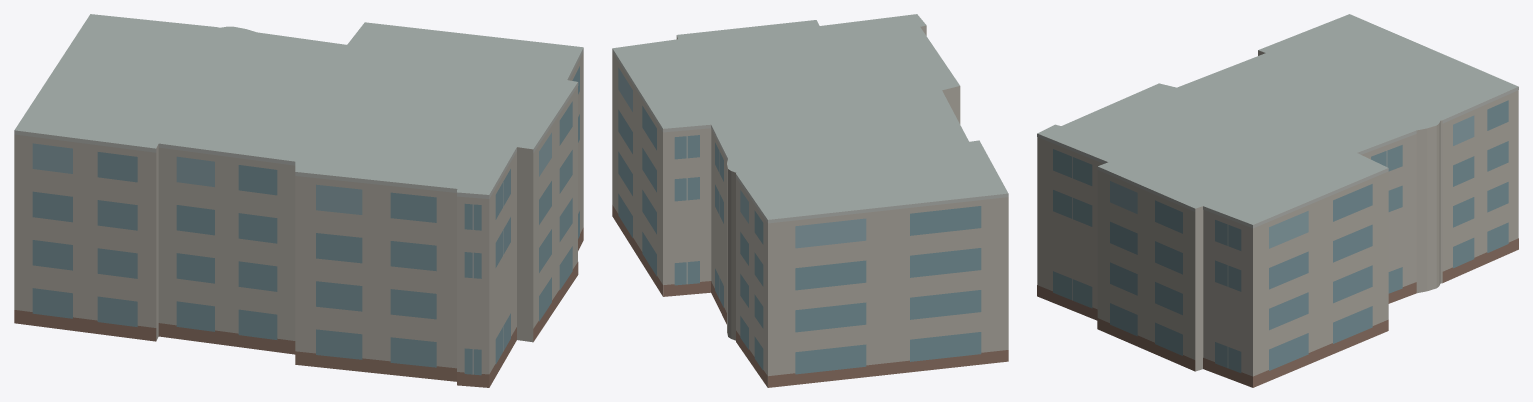
Rendered from survey-upis-32712202.glb.
3 views of the same model, side by side, from view 1: azimuth 30°, elevation 25°; view 2: azimuth 150°, elevation 25°; view 3: azimuth 270°, elevation 25° (orthographic). The views are drawn at different scales.
Parts seen in each view (by area): view 1: survey-upis-32712202.tmp; view 2: survey-upis-32712202.tmp; view 3: survey-upis-32712202.tmp.
Part boxes in pixels (bbox=[...]): survey-upis-32712202.tmp: bbox=[14, 14, 583, 387]; survey-upis-32712202.tmp: bbox=[612, 14, 1008, 387]; survey-upis-32712202.tmp: bbox=[1037, 14, 1518, 387].
Size of the model in its own units: 31.95 by 11.5 by 30.82.
